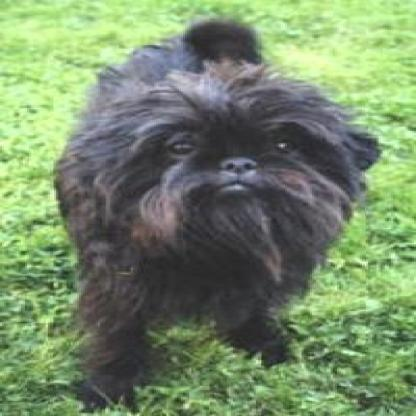affenpinscher: (43, 12, 382, 414)
